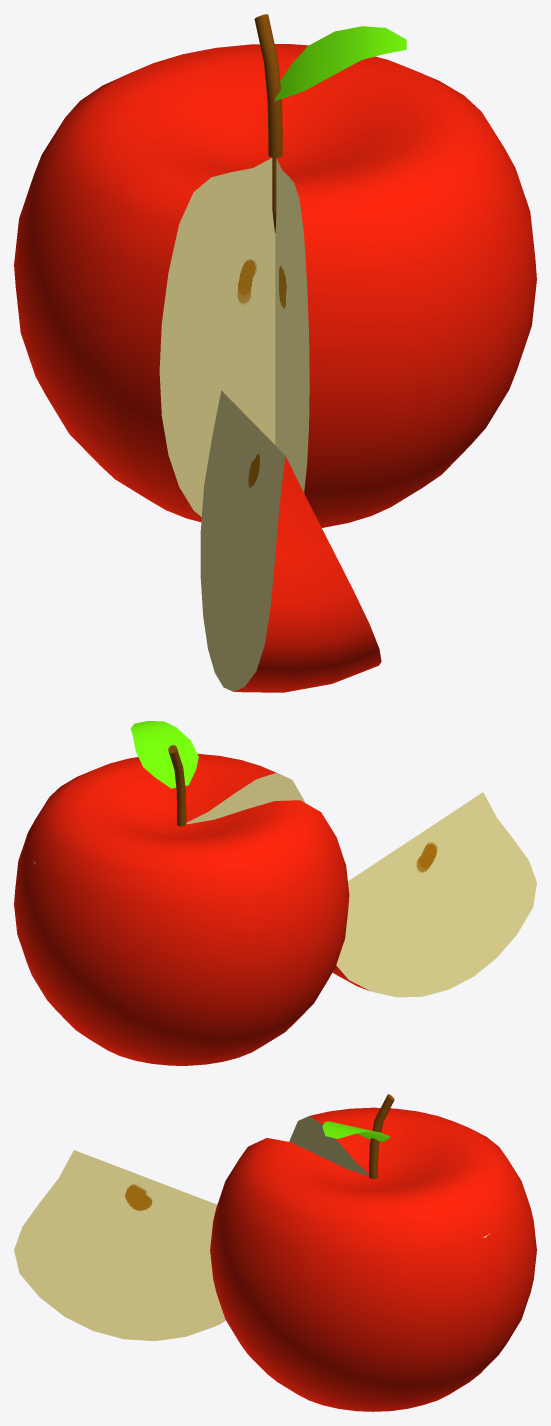
File: apple.fbx
3 renders of one model, top to bottom at view 1: azimuth 30°, elevation 25°; view 2: azimuth 150°, elevation 25°; view 3: azimuth 270°, elevation 25°, orthographic. The views are drawn at different scales.
Visible parts, largest first — view 1: Apple; view 2: Apple; view 3: Apple.
Part boxes in pixels (x1,y1,x2,y2): Apple: (14,14,536,692); Apple: (14,721,536,1065); Apple: (14,1094,536,1411).
Size of the model in its own units: 225 by 196 by 320.
